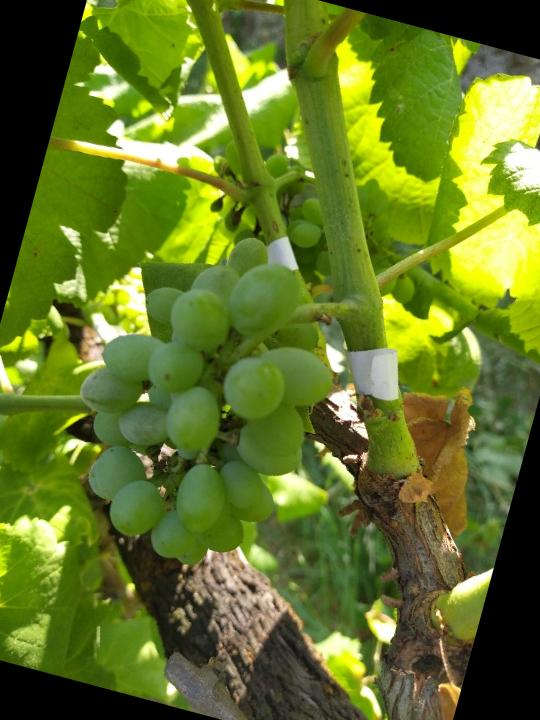grape: (40, 203, 370, 594)
